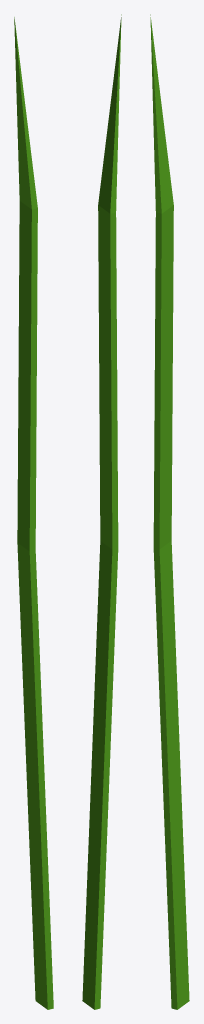
The model's file is GrassSingle_h_02.fbx.
3 views of the same model, side by side, from view 1: azimuth 30°, elevation 25°; view 2: azimuth 210°, elevation 25°; view 3: azimuth 330°, elevation 25° (orthographic).
Visible parts, largest first — view 1: GrassSingle_h_02_LOD0; view 2: GrassSingle_h_02_LOD0; view 3: GrassSingle_h_02_LOD0.
Part boxes in pixels (left/top/right/bottom): GrassSingle_h_02_LOD0: left=14, top=17, right=53, bottom=1009; GrassSingle_h_02_LOD0: left=82, top=14, right=121, bottom=1009; GrassSingle_h_02_LOD0: left=150, top=14, right=189, bottom=1009.
Size of the model in its own units: 1.02 by 28.98 by 0.6451.
